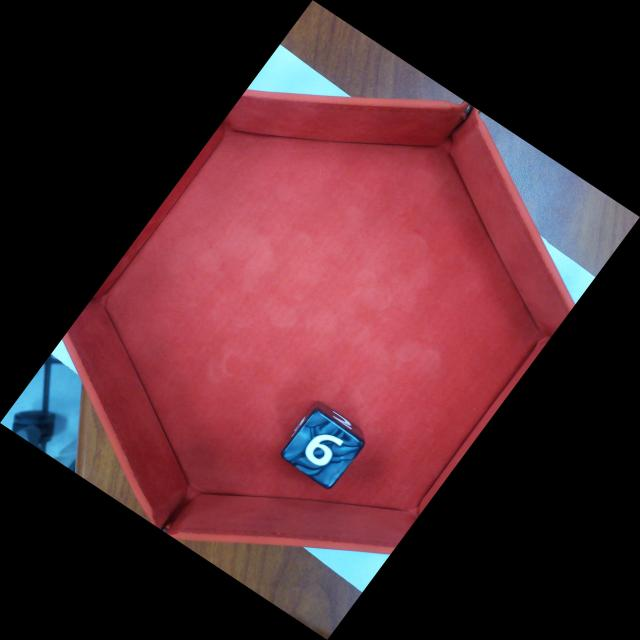dice: (278, 407, 368, 492)
